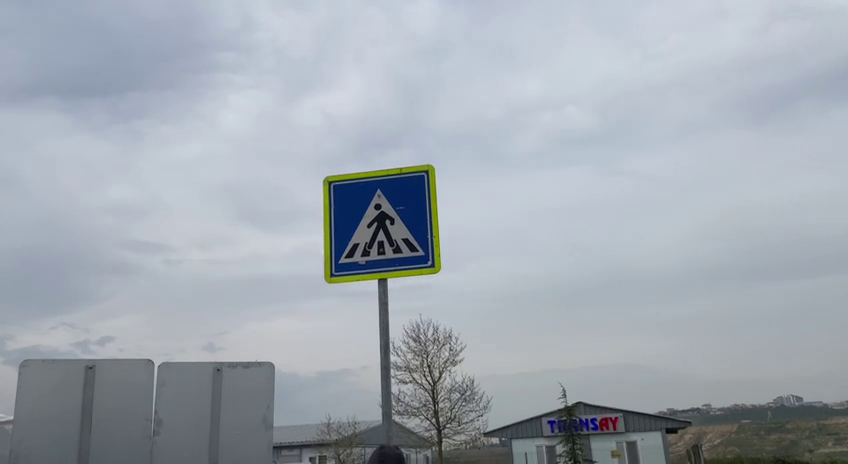pedestrianCrossing: (320, 162, 445, 289)
